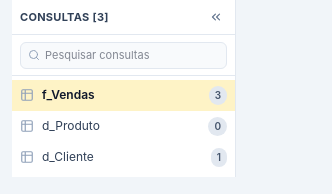
Test: <ConsultasPane /> › collapses and expands via the « / » buttons
The image size is (332, 194).
Click the button with test id "consultas-collapse" at (216, 17), box [205,6,227,28]
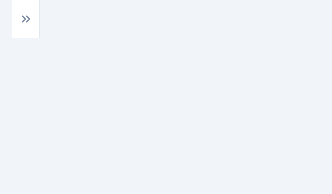
Click the button with test id "consultas-expand" at (26, 19), box [14,8,36,30]
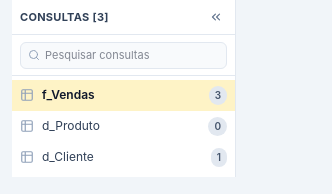
Result: the element with test id "consultas-pane" is shown
